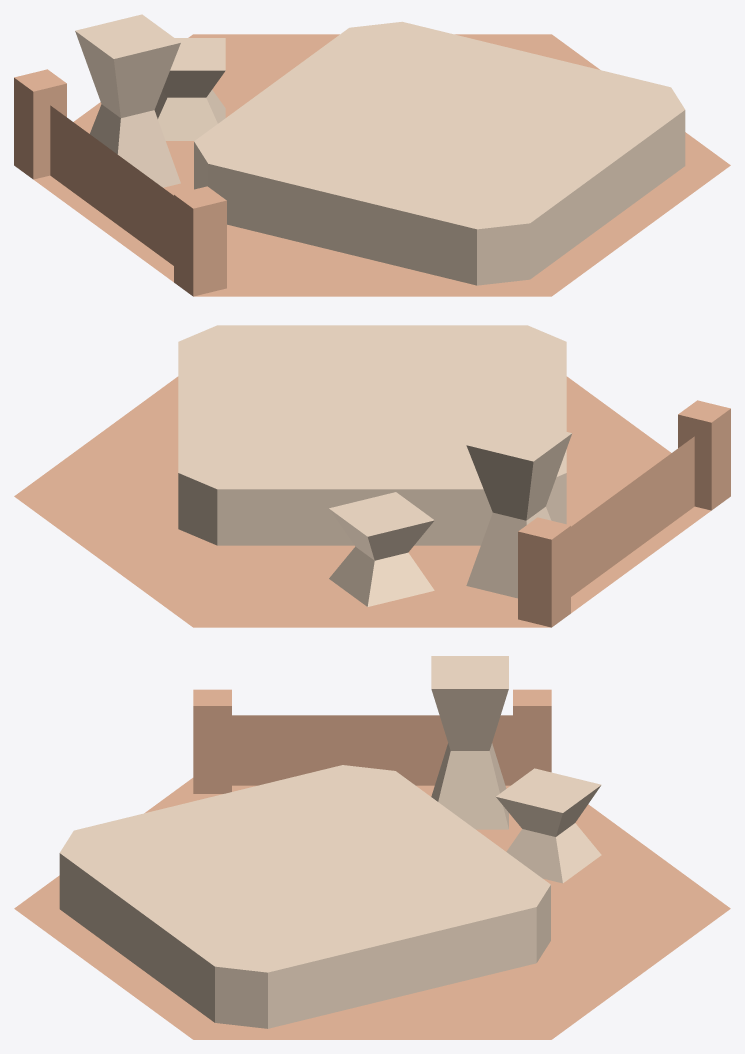
Rendered from building_farm.fbx.
3 views of the same model, one above another, from view 1: azimuth 30°, elevation 25°; view 2: azimuth 150°, elevation 25°; view 3: azimuth 270°, elevation 25° (orthographic).
Parts seen in each view (by area): view 1: grain, building_farm, fence, grainBundle, grainBundle.001; view 2: grain, building_farm, fence, grainBundle, grainBundle.001; view 3: grain, building_farm, fence, grainBundle, grainBundle.001.
Boxes of the visible parts, x1,y1,x2,y2 form: grain: (194, 21, 685, 285); building_farm: (34, 34, 730, 296); fence: (14, 69, 226, 296); grainBundle: (75, 14, 180, 187); grainBundle.001: (154, 38, 225, 140); grain: (178, 325, 566, 545); building_farm: (14, 376, 710, 627); fence: (518, 400, 730, 627); grainBundle: (466, 417, 571, 598); grainBundle.001: (329, 492, 434, 606); grain: (59, 765, 550, 1028); building_farm: (14, 778, 730, 1039); fence: (193, 689, 551, 793); grainBundle: (431, 656, 508, 829); grainBundle.001: (496, 768, 601, 883).
Bounding box in the file's own units: 80 × 20 × 92.38.
